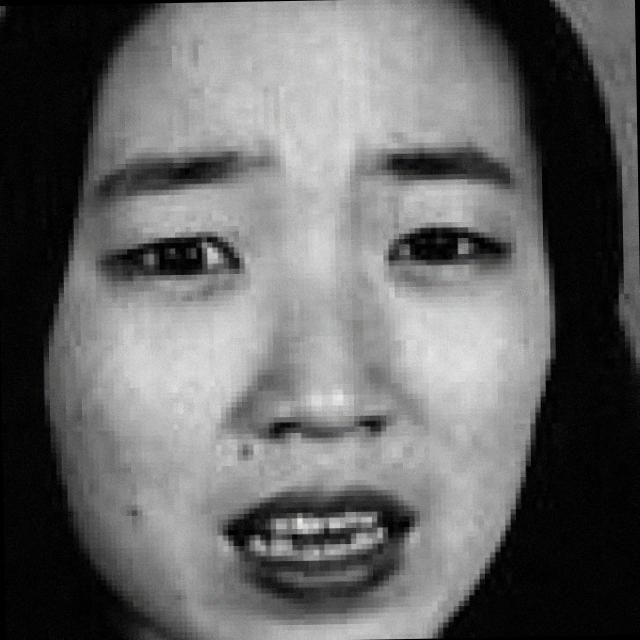fear: (72, 41, 556, 634)
